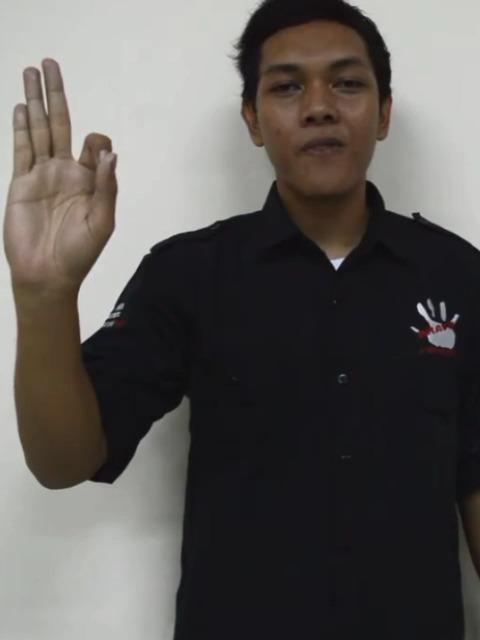F: (3, 55, 124, 278)
